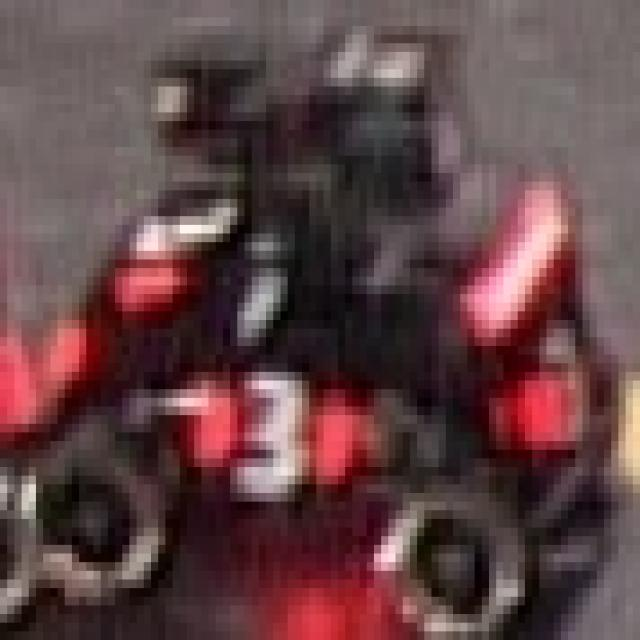R3: (187, 363, 352, 493)
